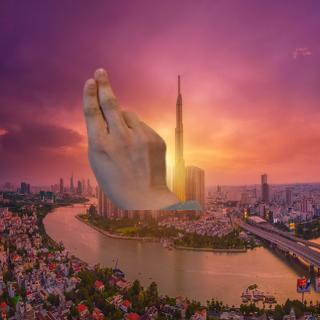DHAVE: (77, 64, 173, 202)
